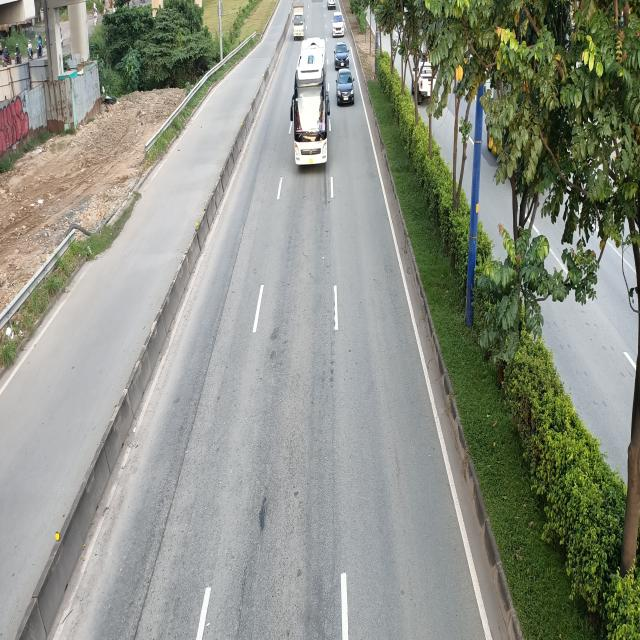car: (336, 70, 356, 106), (336, 42, 352, 68), (332, 13, 345, 37)
coach: (291, 41, 329, 171)
truck: (291, 1, 305, 40)
